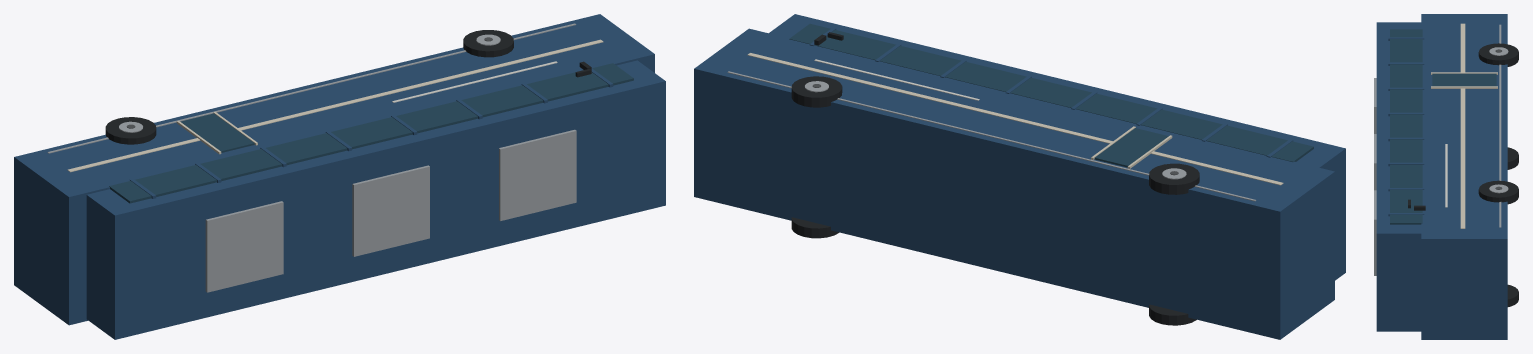
Rendered from RM_Bus_15.glb.
3 renders of one model, left to right at view 1: azimuth 30°, elevation 25°; view 2: azimuth 150°, elevation 25°; view 3: azimuth 270°, elevation 25°, orthographic. The views are drawn at different scales.
Parts seen in each view (by area): view 1: part_001, part_000, part_002, part_037, part_038, part_039, part_013, part_040, part_014, part_024, part_030; view 2: part_000, part_002, part_001, part_013, part_040, part_030, part_024, part_014, part_027, part_021; view 3: part_000, part_001, part_002, part_013, part_040, part_024, part_030, part_014, part_039, part_021, part_027, part_042 (+6 smaller).
Boxes of the visible parts, left/top/right/bottom form: part_001: left=86, top=60, right=665, bottom=339; part_000: left=14, top=14, right=654, bottom=325; part_002: left=109, top=63, right=633, bottom=203; part_037: left=205, top=201, right=283, bottom=292; part_038: left=352, top=165, right=429, bottom=256; part_039: left=499, top=129, right=576, bottom=220; part_013: left=67, top=39, right=603, bottom=172; part_040: left=180, top=113, right=254, bottom=152; part_014: left=47, top=23, right=576, bottom=153; part_024: left=105, top=117, right=156, bottom=144; part_030: left=463, top=30, right=513, bottom=57; part_000: left=694, top=28, right=1334, bottom=339; part_002: left=789, top=23, right=1313, bottom=161; part_001: left=769, top=14, right=1345, bottom=280; part_013: left=747, top=53, right=1283, bottom=185; part_040: left=1094, top=128, right=1168, bottom=167; part_030: left=791, top=76, right=842, bottom=107; part_024: left=1149, top=163, right=1199, bottom=194; part_014: left=727, top=71, right=1256, bottom=201; part_027: left=791, top=217, right=839, bottom=238; part_021: left=1149, top=304, right=1196, bottom=325; part_000: left=1421, top=14, right=1507, bottom=339; part_001: left=1376, top=22, right=1421, bottom=331; part_002: left=1390, top=29, right=1422, bottom=224; part_013: left=1460, top=23, right=1465, bottom=228; part_040: left=1432, top=73, right=1496, bottom=86; part_024: left=1478, top=43, right=1518, bottom=66; part_030: left=1478, top=180, right=1518, bottom=204; part_014: left=1499, top=24, right=1501, bottom=227; part_039: left=1374, top=190, right=1376, bottom=275; part_021: left=1507, top=147, right=1518, bottom=169; part_027: left=1507, top=284, right=1518, bottom=306; part_042: left=1431, top=86, right=1497, bottom=88.
Bounding box in the file's own units: 12.48 × 2.93 × 3.4.
